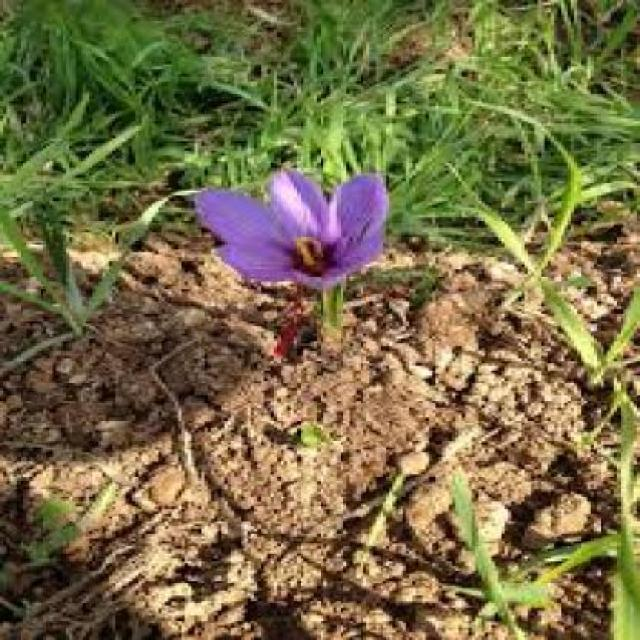Flower: (195, 172, 394, 285)
